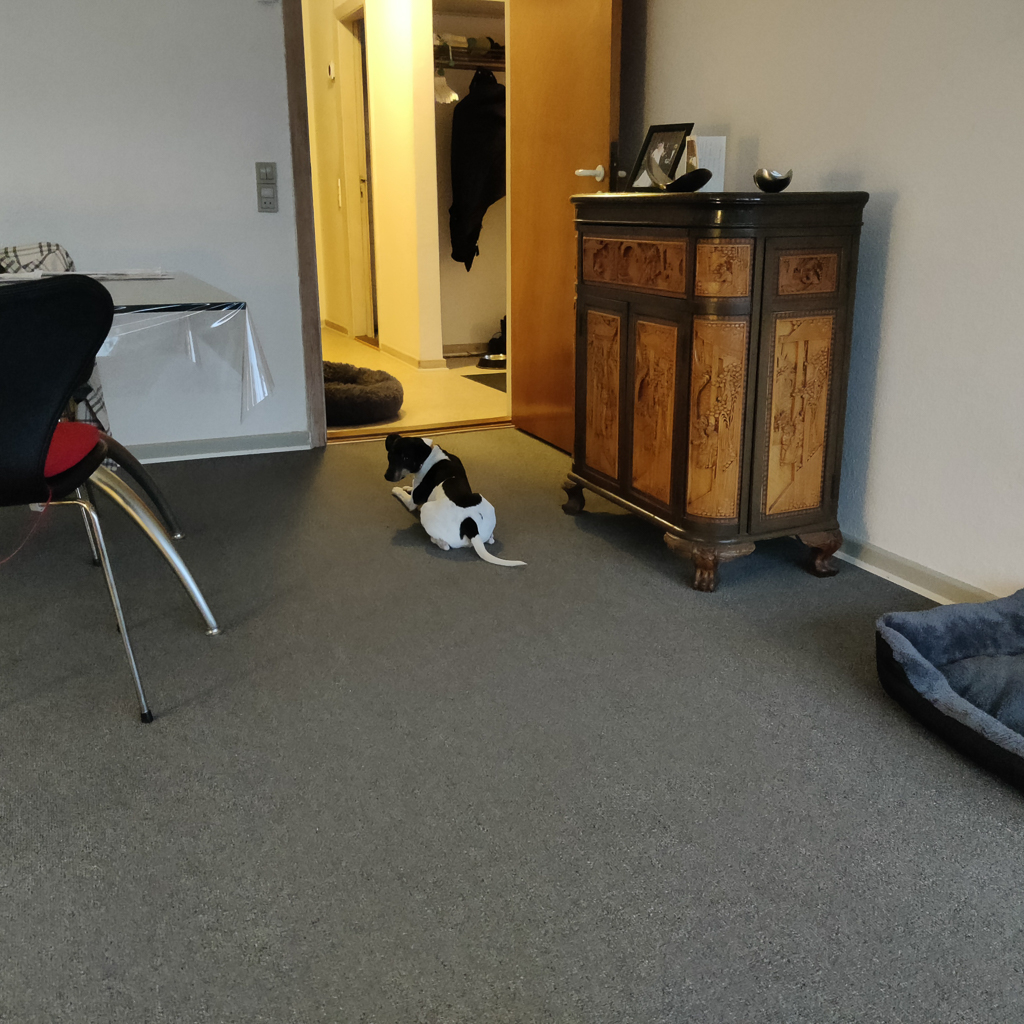Dog: (370, 429, 543, 574)
